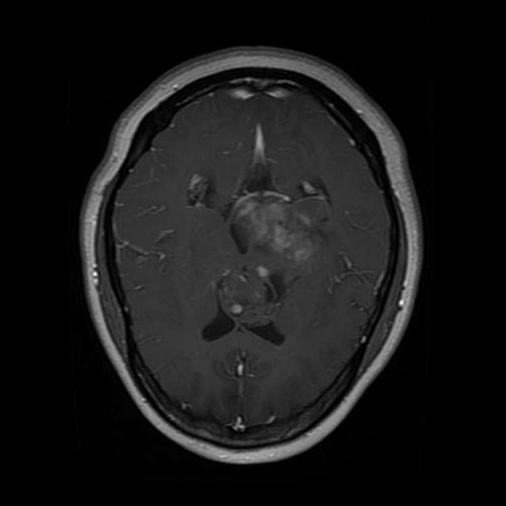Tumour-Glioma: (222, 182, 323, 283)
